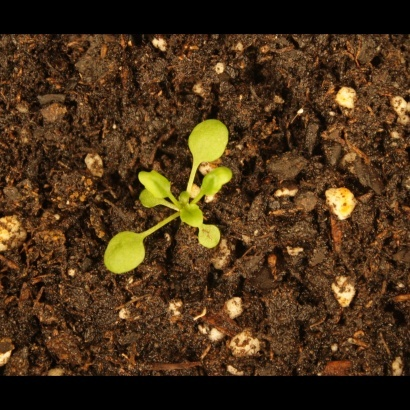leaf: (98, 229, 157, 277), (183, 118, 232, 165), (138, 166, 177, 201), (196, 221, 225, 251), (140, 188, 165, 212)
